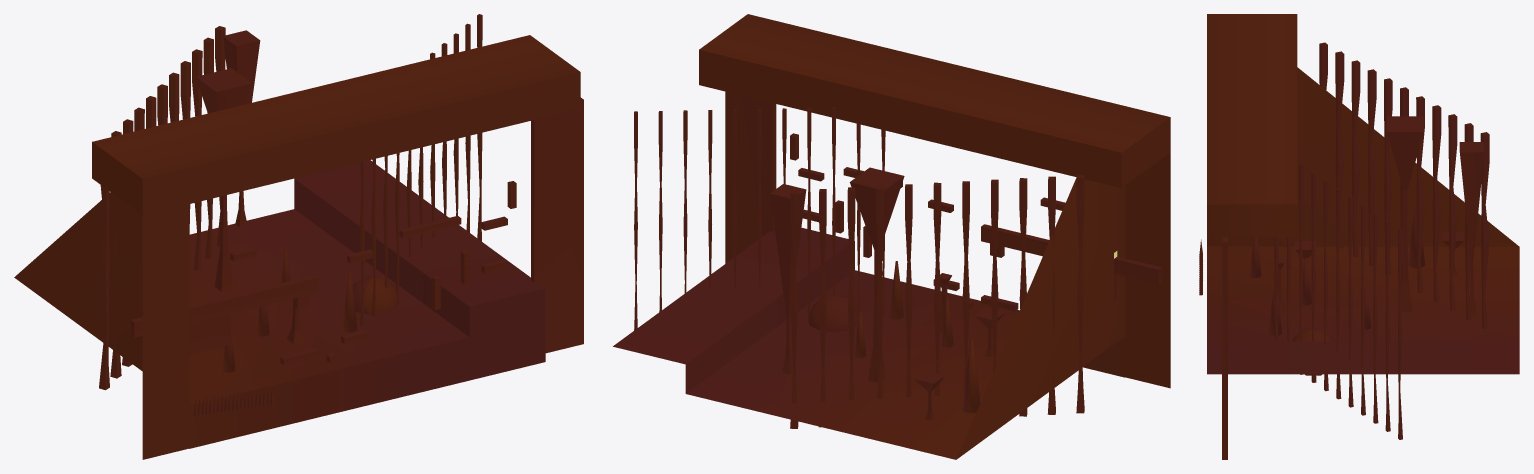
File: level_two.glb
The picture shows the model from 3 angles, left to right: view 1: azimuth 30°, elevation 25°; view 2: azimuth 150°, elevation 25°; view 3: azimuth 270°, elevation 25°; orthographic projection. The views are drawn at different scales.
Visible parts, largest first — view 1: Ground.042, Ground.048, Pole.002, Pole.003, Cube.009, Ground.045, Cube.010, Ground.046, Icosphere.001, Cone.001, Ground.051, Cylinder.007; view 2: Ground.042, Pole.002, Ground.048, Pole.003, Cube.009, Cube.010, Ground.045, Icosphere.001, Cylinder.009; view 3: Ground.042, Pole.002, Pole.003, Cube.009, Cube.010, Ground.048, Cylinder.009, Icosphere.001, Cylinder.007, Cylinder.005.
Part boxes in pixels (left/top/right/bottom): Ground.042: left=14, top=35, right=580, bottom=459; Ground.048: left=531, top=97, right=583, bottom=353; Pole.002: left=99, top=26, right=225, bottom=390; Pole.003: left=359, top=14, right=482, bottom=326; Cube.009: left=196, top=68, right=252, bottom=291; Ground.045: left=131, top=275, right=318, bottom=337; Cube.010: left=223, top=30, right=260, bottom=227; Ground.046: left=189, top=314, right=230, bottom=354; Icosphere.001: left=352, top=275, right=398, bottom=314; Cone.001: left=193, top=387, right=274, bottom=416; Ground.051: left=399, top=215, right=461, bottom=238; Cylinder.007: left=342, top=271, right=357, bottom=332; Ground.042: left=613, top=14, right=1170, bottom=459; Pole.002: left=790, top=175, right=1084, bottom=428; Ground.048: left=725, top=91, right=776, bottom=263; Pole.003: left=634, top=107, right=885, bottom=330; Cube.009: left=849, top=167, right=904, bottom=382; Cube.010: left=770, top=184, right=806, bottom=374; Ground.045: left=981, top=224, right=1162, bottom=284; Icosphere.001: left=808, top=295, right=858, bottom=332; Cylinder.009: left=962, top=339, right=980, bottom=413; Ground.042: left=1207, top=14, right=1519, bottom=374; Pole.002: left=1319, top=42, right=1489, bottom=329; Pole.003: left=1274, top=163, right=1402, bottom=439; Cube.009: left=1387, top=116, right=1423, bottom=311; Cube.010: left=1459, top=142, right=1484, bottom=315; Ground.048: left=1222, top=237, right=1227, bottom=459; Cylinder.009: left=1408, top=200, right=1425, bottom=268; Icosphere.001: left=1292, top=328, right=1334, bottom=375; Cylinder.007: left=1268, top=282, right=1282, bottom=335; Cylinder.005: left=1249, top=237, right=1261, bottom=277.
Size of the model in its own units: 77 by 46.06 by 53.28.
1 material, 1 textured.
